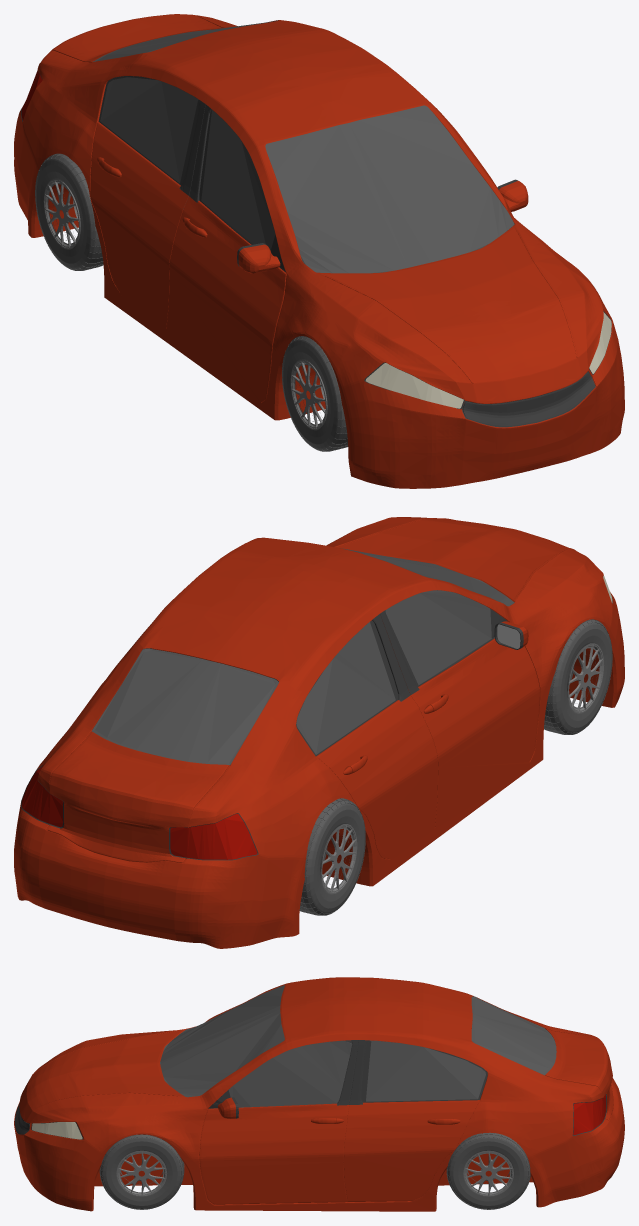
The model's file is CarlaChronoSedan.glb.
3 renders of one model, top to bottom at view 1: azimuth 30°, elevation 25°; view 2: azimuth 150°, elevation 25°; view 3: azimuth 270°, elevation 25°, orthographic. The views are drawn at different scales.
Parts seen in each view (by area): view 1: body-0, body-1, body-2, wheel-1-1-tire-0, wheel-0-1-tire-0, body-4, wheel-0-1-rim-0, wheel-1-1-rim-0; view 2: body-0, body-1, body-5, wheel-1-1-tire-0, wheel-0-1-tire-0, body-2, wheel-1-1-rim-0, wheel-0-1-rim-0; view 3: body-0, body-1, wheel-1-0-tire-0, wheel-0-0-tire-0, body-2, wheel-1-0-rim-0, wheel-0-0-rim-0, body-5, body-4.
Part boxes in pixels (x1,y1,x2,y2): body-0: (14, 14, 624, 488); body-1: (93, 20, 514, 273); body-2: (21, 71, 611, 427); wheel-1-1-tire-0: (35, 153, 103, 270); wheel-0-1-tire-0: (282, 336, 348, 451); body-4: (365, 312, 611, 408); wheel-0-1-rim-0: (290, 360, 327, 430); wheel-1-1-rim-0: (43, 179, 80, 249); body-0: (14, 517, 624, 948); body-1: (91, 548, 514, 765); body-5: (21, 766, 257, 859); wheel-1-1-tire-0: (299, 798, 365, 915); wheel-0-1-tire-0: (544, 619, 612, 734); body-2: (21, 597, 612, 860); wheel-1-1-rim-0: (320, 824, 357, 894); wheel-0-1-rim-0: (567, 643, 604, 713); body-0: (14, 977, 624, 1211); body-1: (160, 985, 556, 1107); wheel-1-0-tire-0: (446, 1132, 530, 1209); wheel-0-0-tire-0: (99, 1134, 184, 1209); body-2: (14, 1040, 606, 1139); wheel-1-0-rim-0: (463, 1150, 513, 1196); wheel-0-0-rim-0: (116, 1150, 167, 1196); body-5: (573, 1094, 605, 1135); body-4: (32, 1122, 82, 1139).
Bounding box in the file's own units: 1.85 × 1.47 × 4.89.
